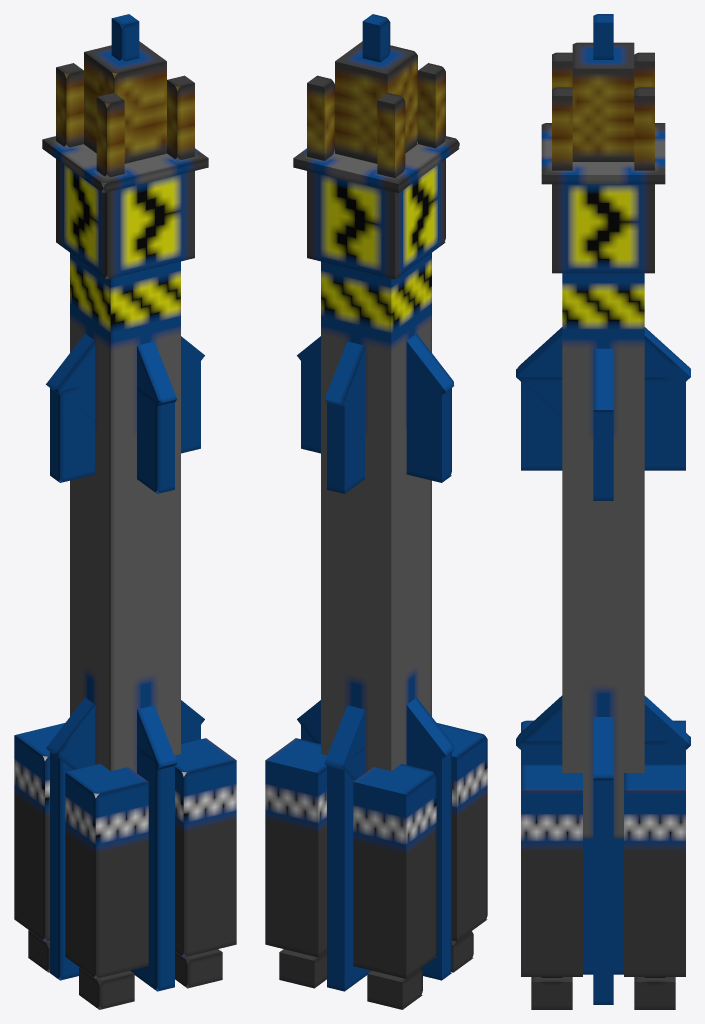
The model's file is missile_emp.obj.
3 views of the same model, side by side, from view 1: azimuth 30°, elevation 25°; view 2: azimuth 150°, elevation 25°; view 3: azimuth 270°, elevation 25° (orthographic).
Visible parts, largest first — view 1: MAIN_MODULE, MOTOR_MODULE_4, MOTOR_MODULE_2, TOP, MOTOR_MODULE_3, MAIN_COIL, WING_1B, WING_4B, WING_2B, BASE, WING_3A, WING_4A (+10 smaller); view 2: MAIN_MODULE, MOTOR_MODULE_3, MOTOR_MODULE_1, TOP, MOTOR_MODULE_4, MAIN_COIL, WING_1B, WING_4B, WING_2B, BASE, WING_3A, WING_2A (+10 smaller); view 3: MAIN_MODULE, MOTOR_MODULE_1, MOTOR_MODULE_2, TOP, WING_3A, MAIN_COIL, WING_1B, WING_2B, WING_3B, BASE, WING_1A, WING_4B (+9 smaller).
Part boxes in pixels (<box>): MAIN_MODULE: <box>70,253,180,772</box>; MOTOR_MODULE_4: <box>65,764,148,978</box>; MOTOR_MODULE_2: <box>174,738,236,957</box>; TOP: <box>56,159,194,279</box>; MOTOR_MODULE_3: <box>14,723,64,941</box>; MAIN_COIL: <box>84,41,166,163</box>; WING_1B: <box>130,746,174,991</box>; WING_4B: <box>50,359,200,482</box>; WING_2B: <box>50,716,200,980</box>; BASE: <box>42,136,208,193</box>; WING_3A: <box>137,387,174,493</box>; WING_4A: <box>46,333,204,421</box>; MAIN_MODULE: <box>321,253,431,772</box>; MOTOR_MODULE_3: <box>353,764,436,978</box>; MOTOR_MODULE_1: <box>265,738,327,957</box>; TOP: <box>307,159,445,279</box>; MOTOR_MODULE_4: <box>437,723,487,941</box>; MAIN_COIL: <box>335,41,417,163</box>; WING_1B: <box>327,746,371,991</box>; WING_4B: <box>301,356,451,482</box>; WING_2B: <box>301,725,451,980</box>; BASE: <box>293,136,459,193</box>; WING_3A: <box>327,391,364,493</box>; WING_2A: <box>297,697,453,769</box>; MAIN_MODULE: <box>562,273,644,838</box>; MOTOR_MODULE_1: <box>624,764,685,976</box>; MOTOR_MODULE_2: <box>521,764,582,976</box>; TOP: <box>552,184,654,273</box>; WING_3A: <box>521,377,685,470</box>; MAIN_COIL: <box>572,42,634,161</box>; WING_1B: <box>521,741,685,974</box>; WING_2B: <box>593,778,613,1004</box>; WING_3B: <box>516,327,690,416</box>; BASE: <box>541,123,665,184</box>; WING_1A: <box>516,695,690,763</box>; WING_4B: <box>593,412,613,500</box>.
Size of the model in its own units: 1.06 by 6.44 by 1.06.
